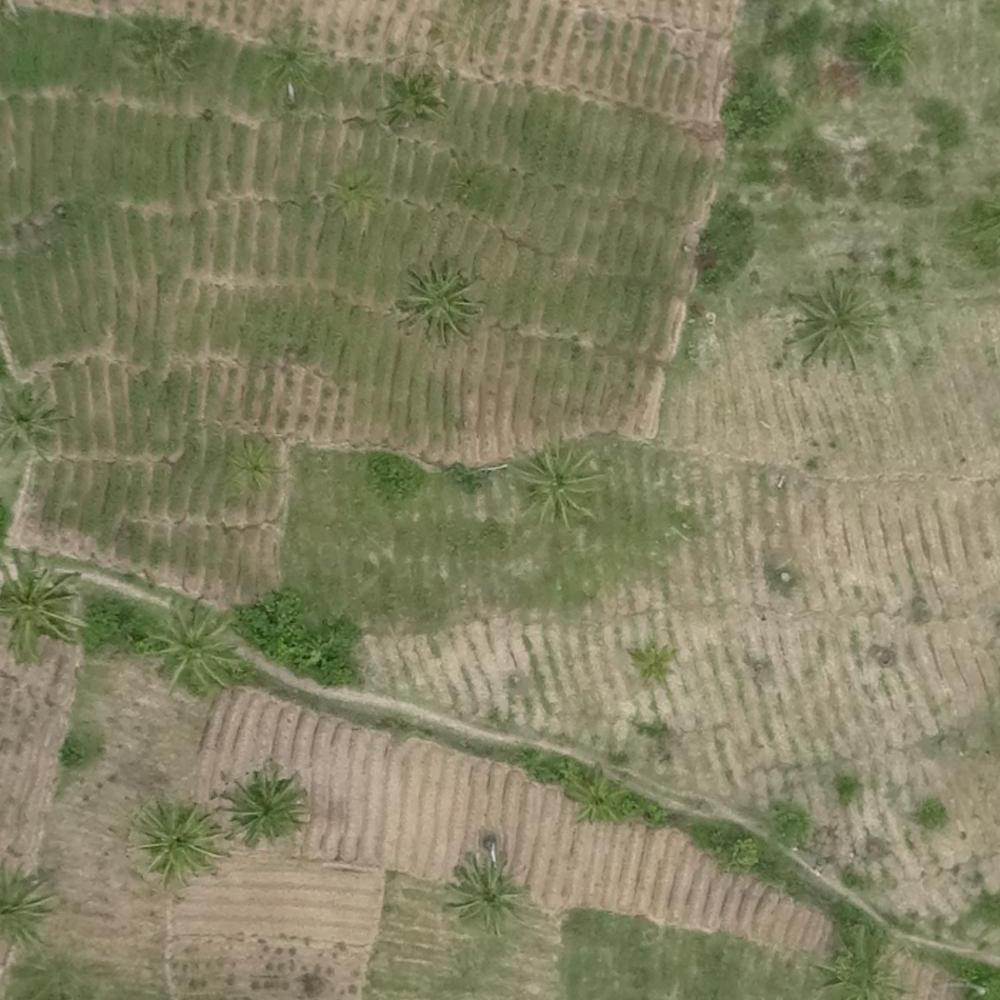Palm: (1, 546, 85, 656), (144, 599, 243, 691), (128, 799, 229, 886), (785, 276, 875, 367), (508, 444, 600, 529), (399, 261, 485, 351), (443, 848, 529, 929), (225, 760, 304, 843), (3, 378, 78, 463), (252, 30, 324, 98), (563, 759, 629, 823)
